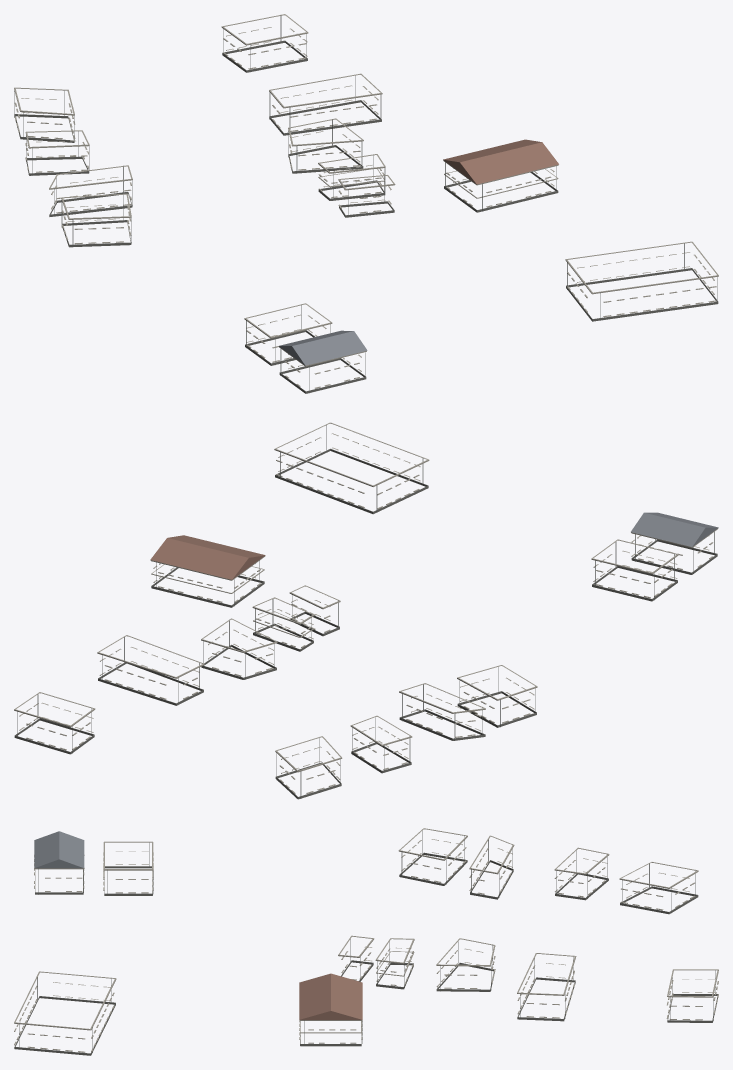
File: district_-3_-2.glb
The picture shows the model from 3 angles, top to bottom: view 1: azimuth 30°, elevation 25°; view 2: azimuth 150°, elevation 25°; view 3: azimuth 270°, elevation 25°; orthographic projection. The views are drawn at different scales.
Parts seen in each view (by area): view 1: MasonryTrim, RoofMetal, MetalDetails; view 2: MasonryTrim, RoofMetal, MetalDetails; view 3: MasonryTrim, RoofMetal, MetalDetails.
Boxes of the visible parts, box(x1,y1,x2,y2) form: MasonryTrim: box(14, 14, 718, 393); RoofMetal: box(279, 139, 558, 365); MetalDetails: box(14, 15, 717, 392); MasonryTrim: box(14, 422, 718, 799); RoofMetal: box(150, 512, 718, 579); MetalDetails: box(17, 425, 714, 798); MasonryTrim: box(14, 828, 718, 1055); RoofMetal: box(34, 831, 362, 1019); MetalDetails: box(19, 831, 715, 1052).
Size of the model in its own units: 122 by 10.1 by 181.
